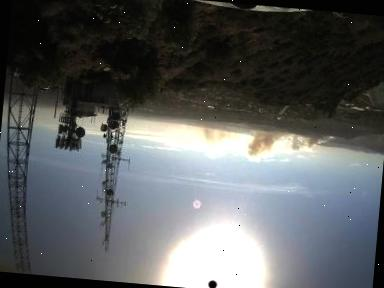smoke: (189, 124, 339, 173)
